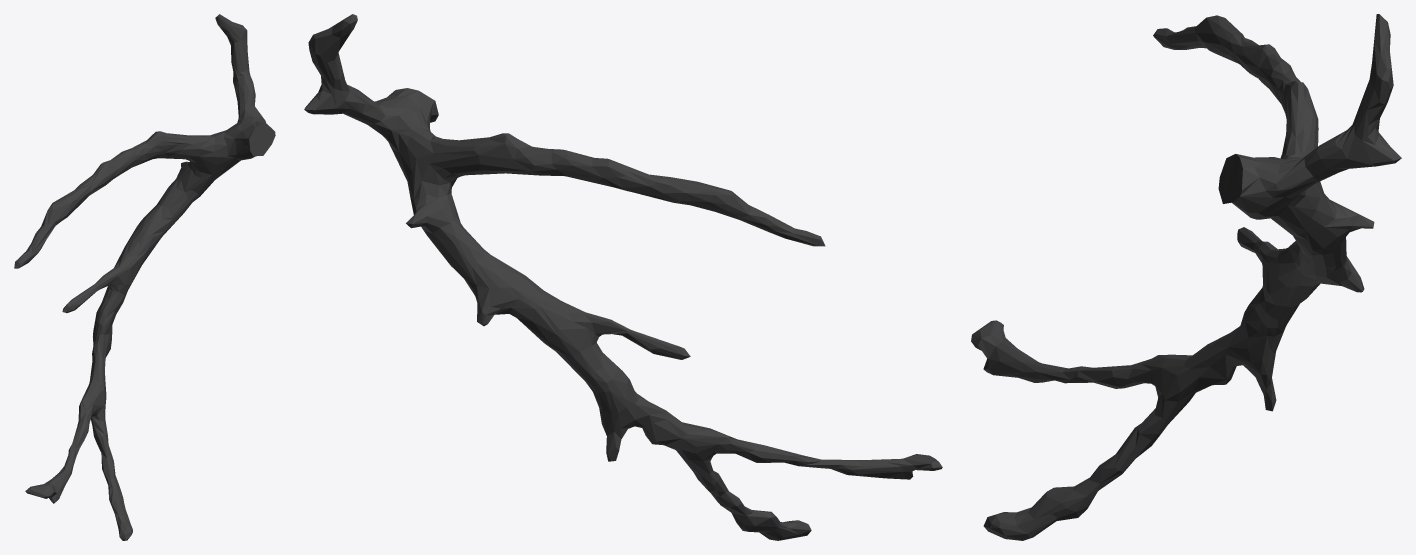
The model's file is Right_cranial_lobe_bronchus_1.glb.
3 renders of one model, left to right at view 1: azimuth 30°, elevation 25°; view 2: azimuth 150°, elevation 25°; view 3: azimuth 270°, elevation 25°, orthographic. The views are drawn at different scales.
Visible parts, largest first — view 1: Right_cranial_lobe_bronchus_1; view 2: Right_cranial_lobe_bronchus_1; view 3: Right_cranial_lobe_bronchus_1.
Boxes of the visible parts, x1,y1,x2,y2 form: Right_cranial_lobe_bronchus_1: (14,14,275,540); Right_cranial_lobe_bronchus_1: (304,14,942,540); Right_cranial_lobe_bronchus_1: (971,14,1401,540).
Bounding box in the file's own units: 3.2 × 3.64 × 2.05.
Materials: 1 (1 with a texture image).
